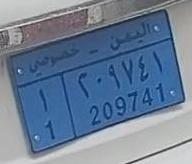city: (17, 75, 76, 152)
number: (62, 38, 185, 137)
text: (10, 8, 173, 88)
